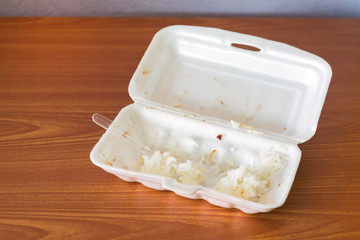styrofoam: (90, 25, 335, 215)
